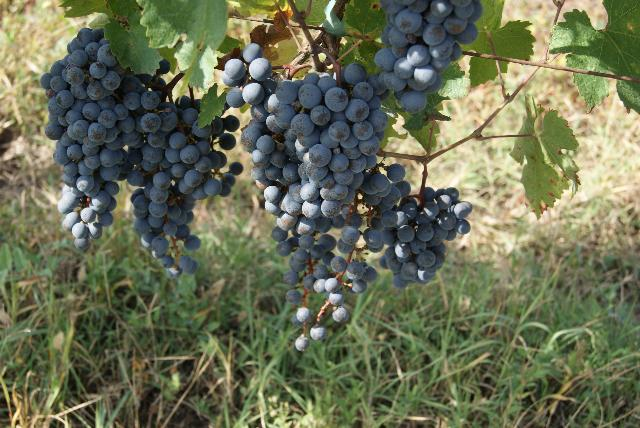grapes: (40, 34, 145, 250), (269, 62, 389, 228), (134, 96, 241, 279), (231, 44, 310, 281), (295, 198, 384, 350), (371, 188, 472, 290), (368, 165, 405, 230)
